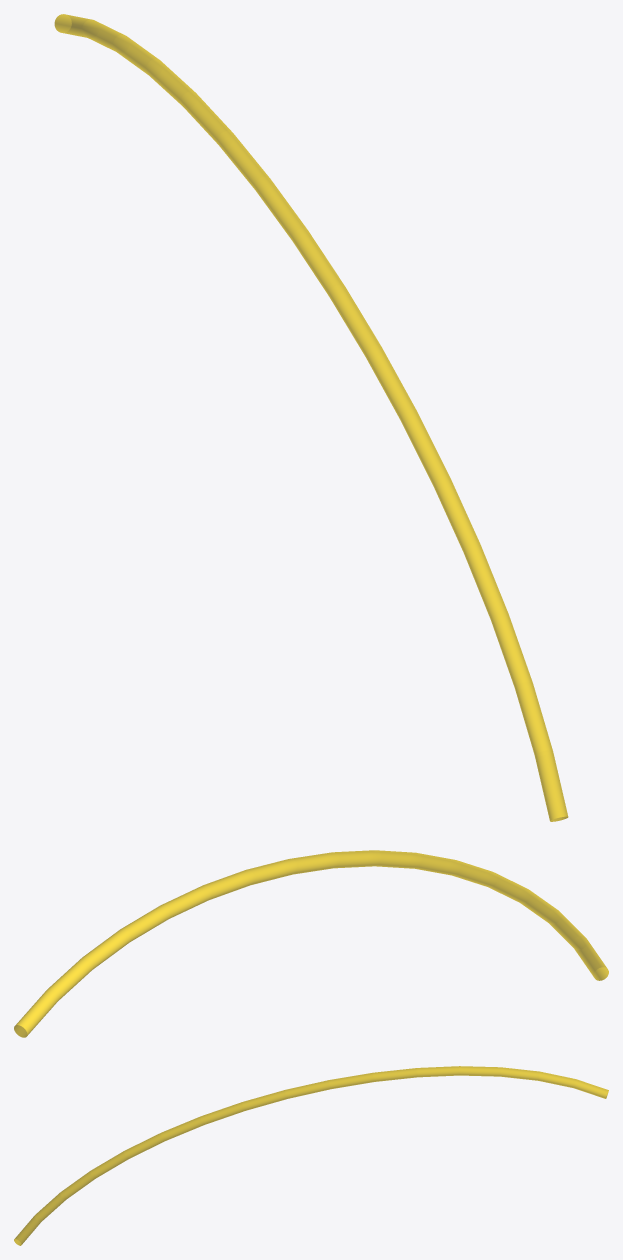
Rendered from Event_17758602_track_33.fbx.
The picture shows the model from 3 angles, top to bottom: view 1: azimuth 30°, elevation 25°; view 2: azimuth 150°, elevation 25°; view 3: azimuth 270°, elevation 25°; orthographic projection. The views are drawn at different scales.
Visible parts, largest first — view 1: Model; view 2: Model; view 3: Model.
Part boxes in pixels (x1=…): Model: x1=54, y1=14, x2=568, y2=821; Model: x1=14, y1=850, x2=608, y2=1037; Model: x1=14, y1=1066, x2=608, y2=1245.
Size of the model in its own units: 0.2671 by 0.9117 by 2.5.
